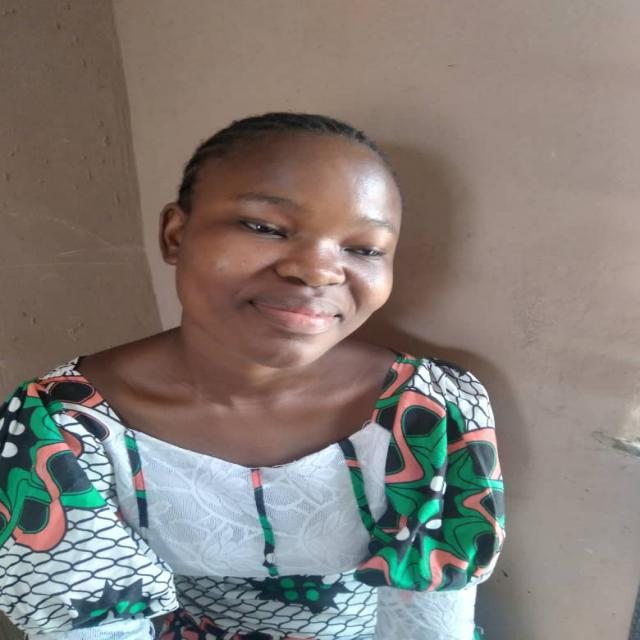happy: (158, 103, 408, 377)
